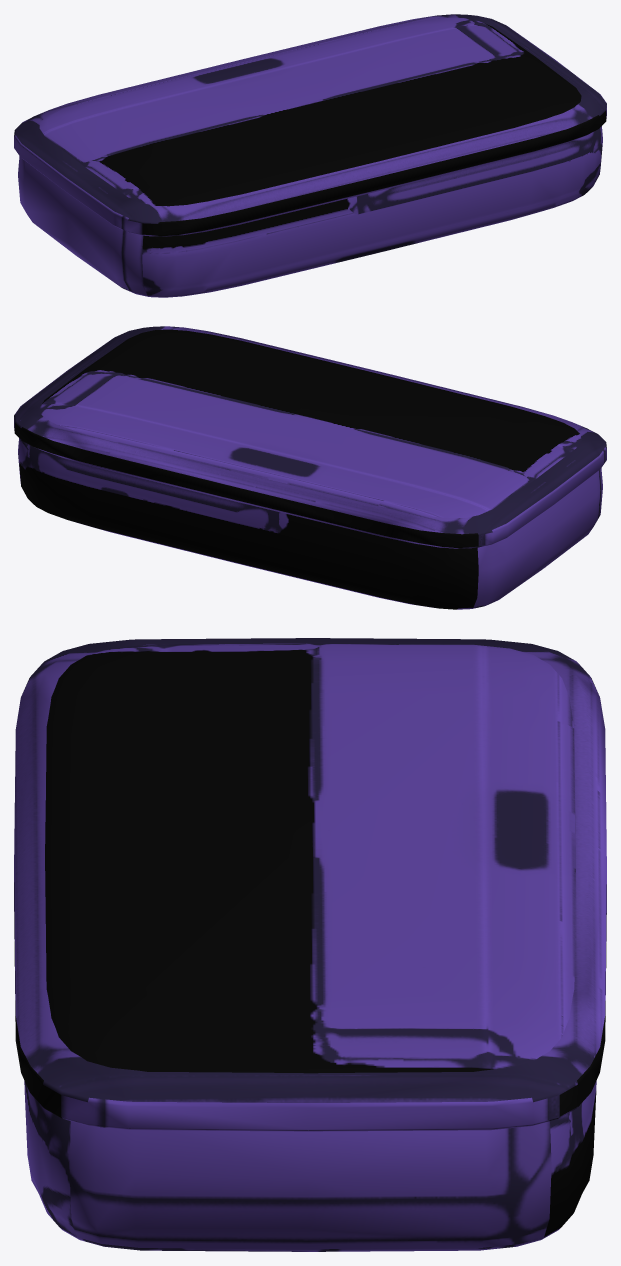
Rendered from Estela_Cadera.fbx.
3 views of the same model, one above another, from view 1: azimuth 30°, elevation 25°; view 2: azimuth 150°, elevation 25°; view 3: azimuth 270°, elevation 25° (orthographic). The views are drawn at different scales.
Visible parts, largest first — view 1: Estela_Cadera; view 2: Estela_Cadera; view 3: Estela_Cadera.
Part boxes in pixels (<box>): Estela_Cadera: <box>14,14,606,297</box>; Estela_Cadera: <box>14,326,606,609</box>; Estela_Cadera: <box>14,638,606,1251</box>.
Bounding box in the file's own units: 2.1 × 0.4292 × 1.12.
